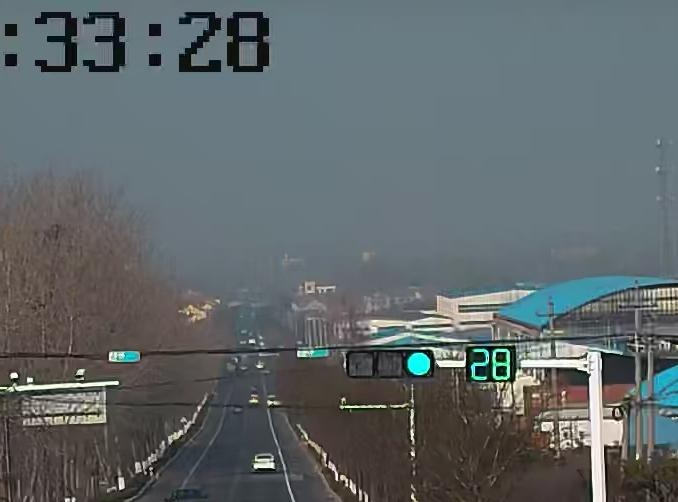green: (405, 348, 433, 380)
greentime: (470, 348, 515, 386)
